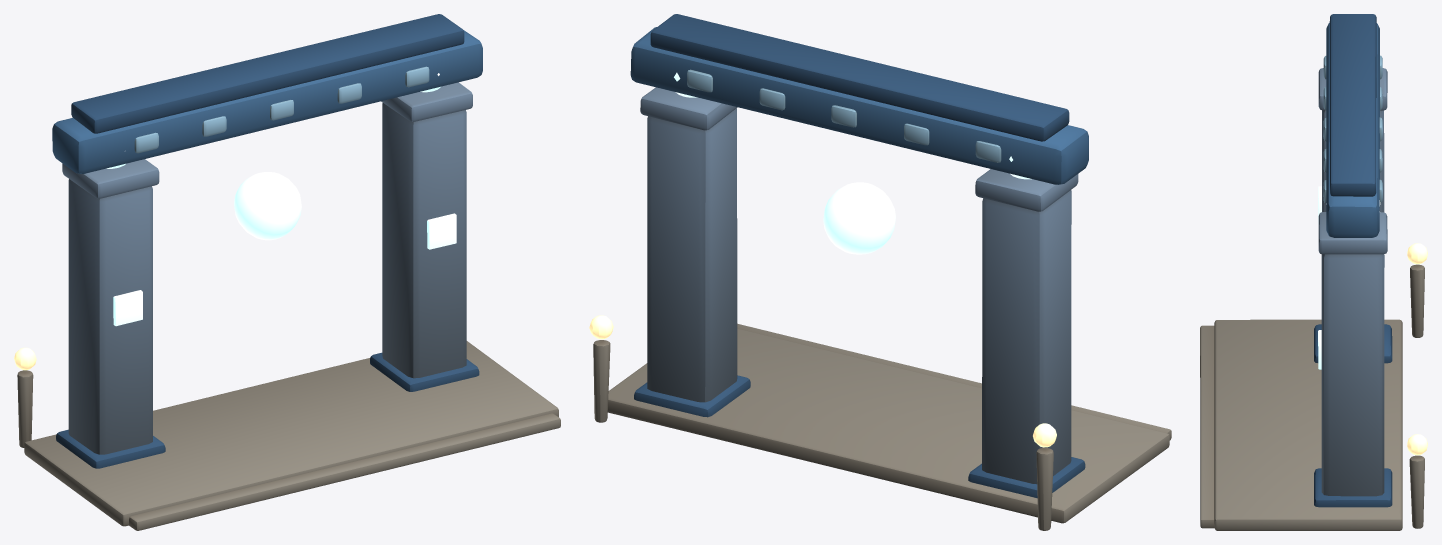
The picture shows the model from 3 angles, left to right: view 1: azimuth 30°, elevation 25°; view 2: azimuth 150°, elevation 25°; view 3: azimuth 270°, elevation 25°; orthographic projection. The views are drawn at different scales.
Visible parts, largest first — view 1: gate_aed2ee7b; view 2: gate_aed2ee7b; view 3: gate_aed2ee7b.
Part boxes in pixels (bbox=[...]): gate_aed2ee7b: bbox=[14, 14, 560, 530]; gate_aed2ee7b: bbox=[589, 14, 1171, 530]; gate_aed2ee7b: bbox=[1200, 14, 1427, 530].
Size of the model in its own units: 5.31 by 4.13 by 2.54.
